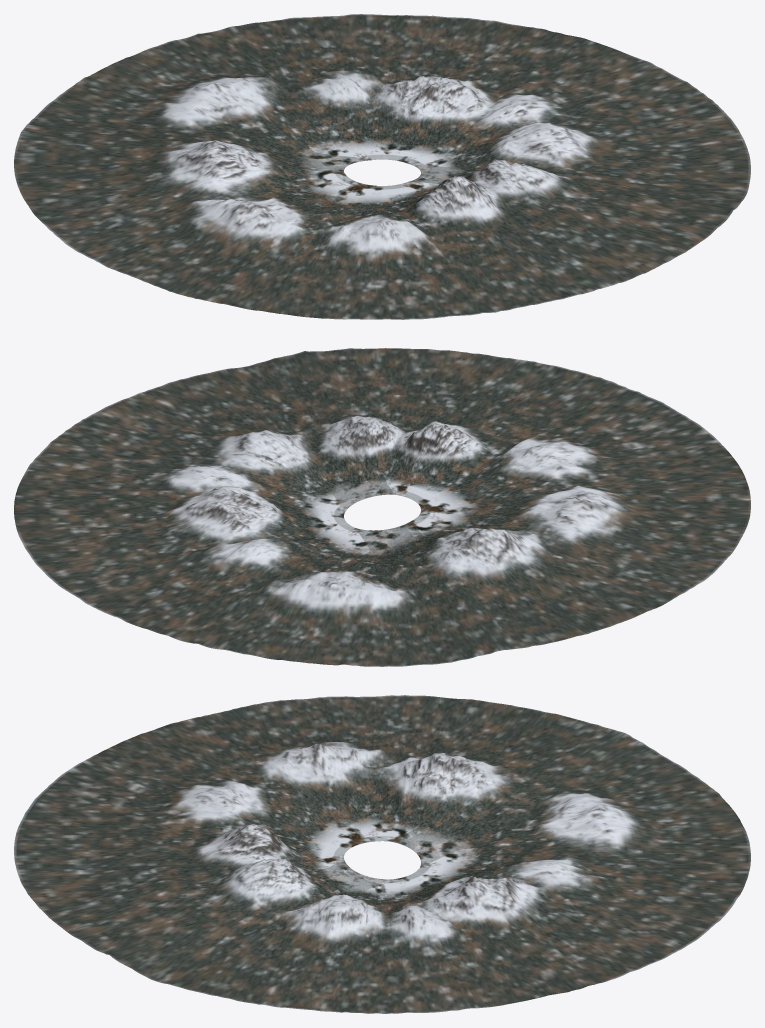
Rendered from mountains.glb.
3 views of the same model, one above another, from view 1: azimuth 30°, elevation 25°; view 2: azimuth 150°, elevation 25°; view 3: azimuth 270°, elevation 25° (orthographic).
Parts seen in each view (by area): view 1: mountains; view 2: mountains; view 3: mountains.
Boxes of the visible parts, x1,y1,x2,y2 form: mountains: [14, 14, 750, 319]; mountains: [14, 348, 750, 666]; mountains: [14, 695, 750, 1013].
Size of the model in its own units: 22000 by 1423 by 22000.
1 material, 1 textured.
